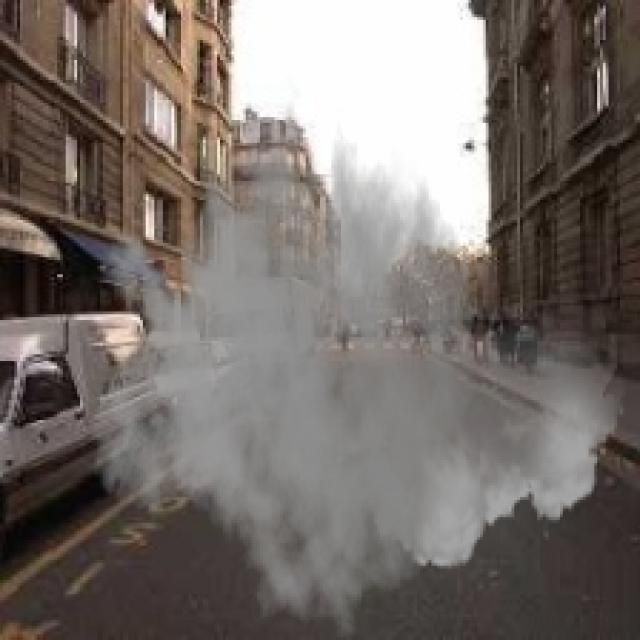Smoke: (89, 77, 628, 637)
